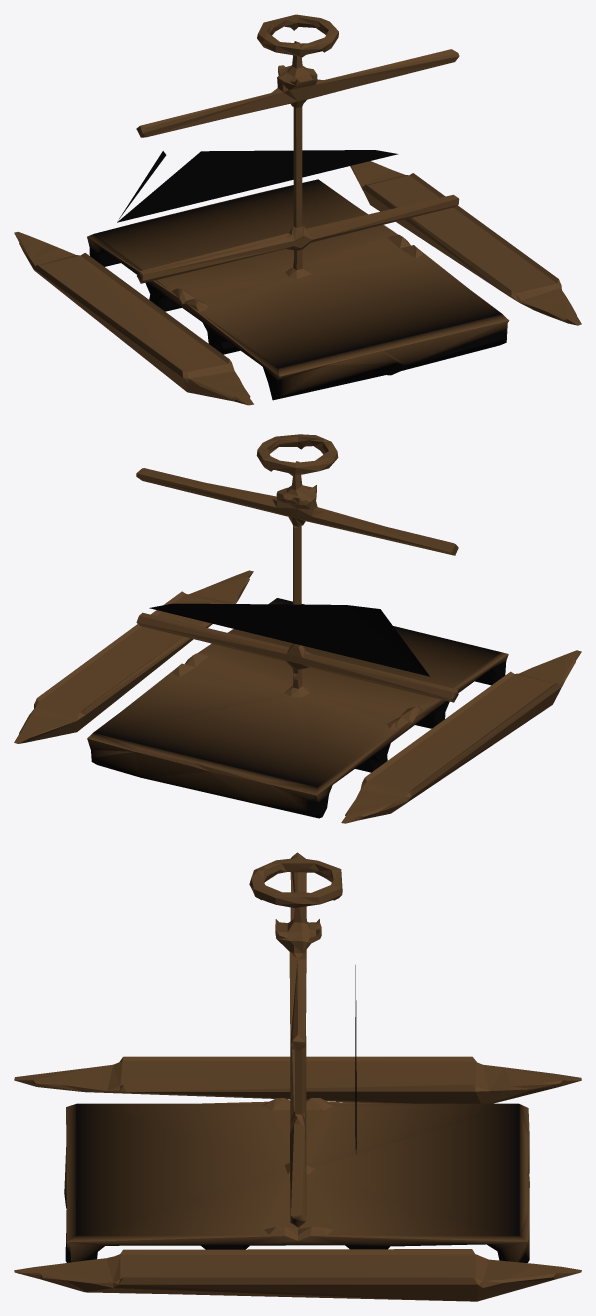
File: Raft.glb
3 views of the same model, one above another, from view 1: azimuth 30°, elevation 25°; view 2: azimuth 150°, elevation 25°; view 3: azimuth 270°, elevation 25° (orthographic). The views are drawn at different scales.
Visible parts, largest first — view 1: Root; view 2: Root; view 3: Root.
Boxes of the visible parts, left/top/right/bottom form: Root: left=14, top=14, right=581, bottom=405; Root: left=14, top=434, right=581, bottom=823; Root: left=14, top=852, right=581, bottom=1301.
Size of the model in its own units: 8.67 by 6.08 by 9.38.
